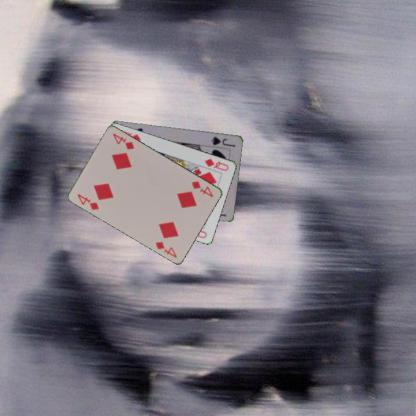4d: (189, 178, 214, 199), (75, 192, 101, 212)
Js: (209, 134, 236, 149)
Qd: (202, 156, 230, 172)
